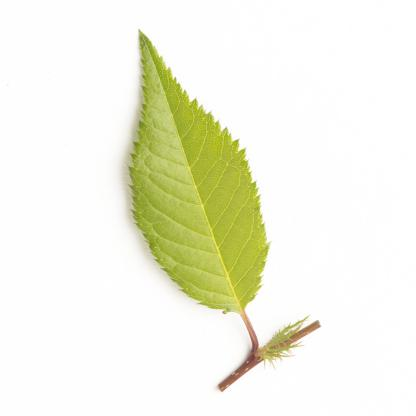cherry leaf: (118, 25, 300, 319)
